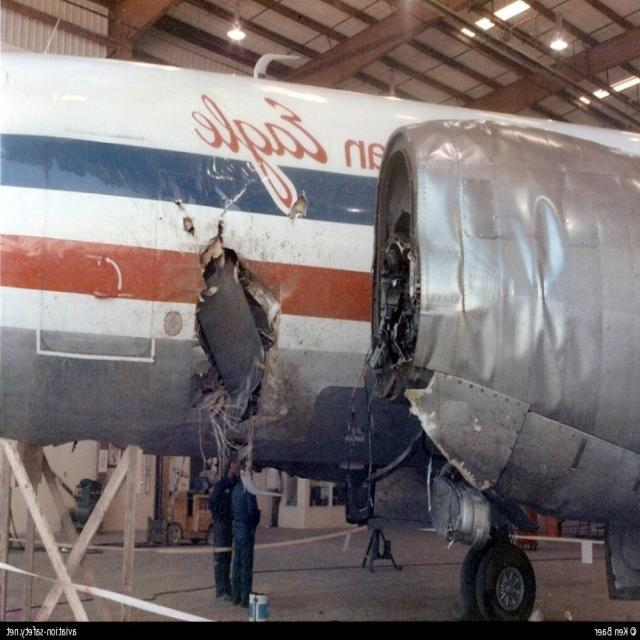dent: (422, 192, 602, 376)
